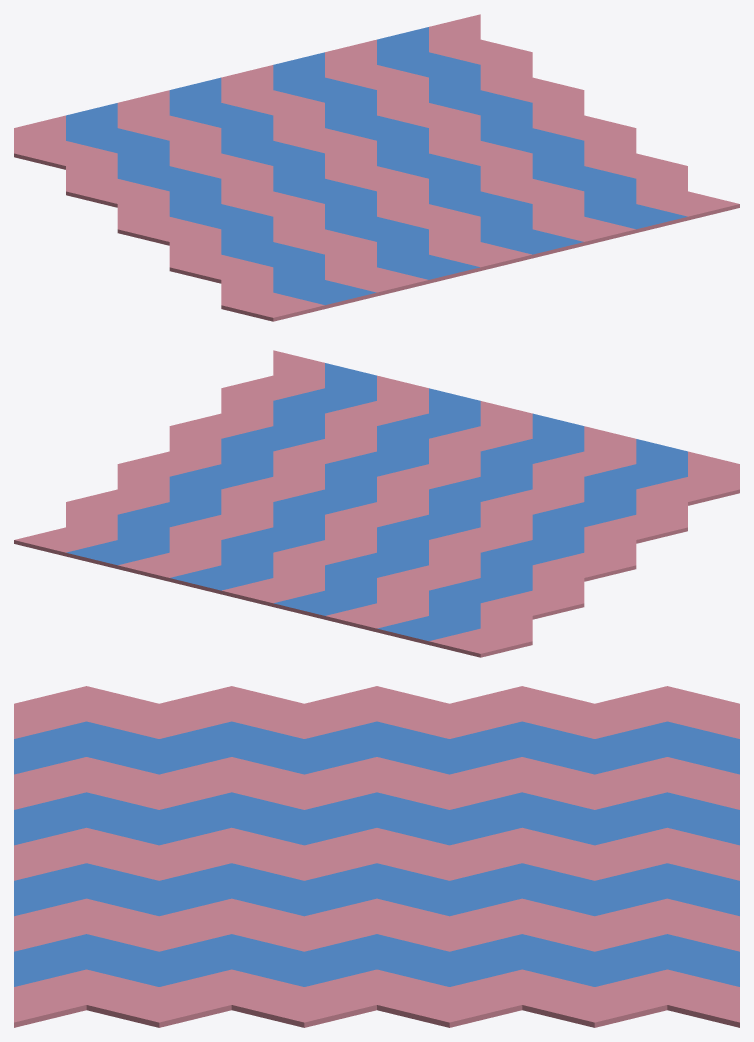
File: Childroom2_carpet.fbx
The picture shows the model from 3 angles, top to bottom: view 1: azimuth 30°, elevation 25°; view 2: azimuth 150°, elevation 25°; view 3: azimuth 270°, elevation 25°; orthographic projection. The views are drawn at different scales.
Parts seen in each view (by area): view 1: Childroom2_carpet; view 2: Childroom2_carpet; view 3: Childroom2_carpet.
Part boxes in pixels (box(x1,y1,x2,y2)): Childroom2_carpet: box(14, 14, 739, 321); Childroom2_carpet: box(14, 350, 739, 657); Childroom2_carpet: box(14, 686, 739, 1027).
Size of the model in its own units: 241 by 1.79 by 220.
